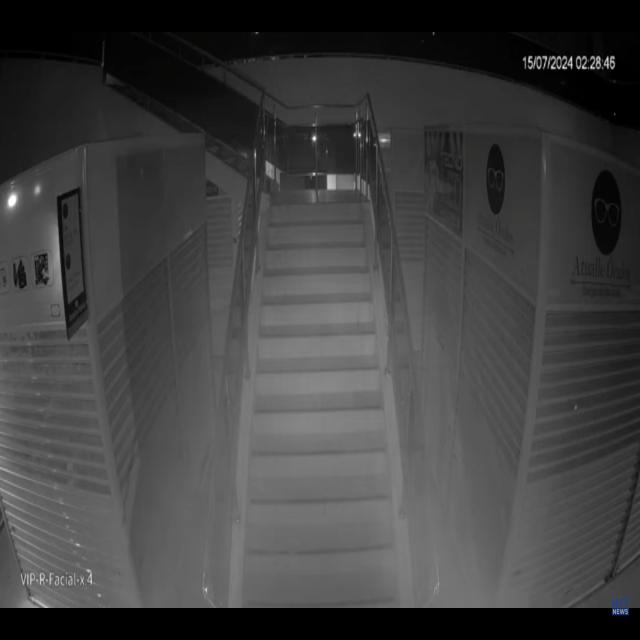Atencao: (93, 170, 566, 604)
